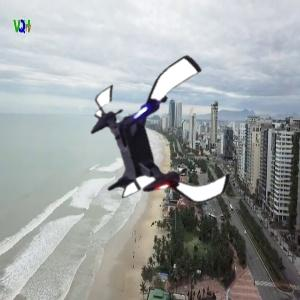drone: (84, 64, 244, 224)
